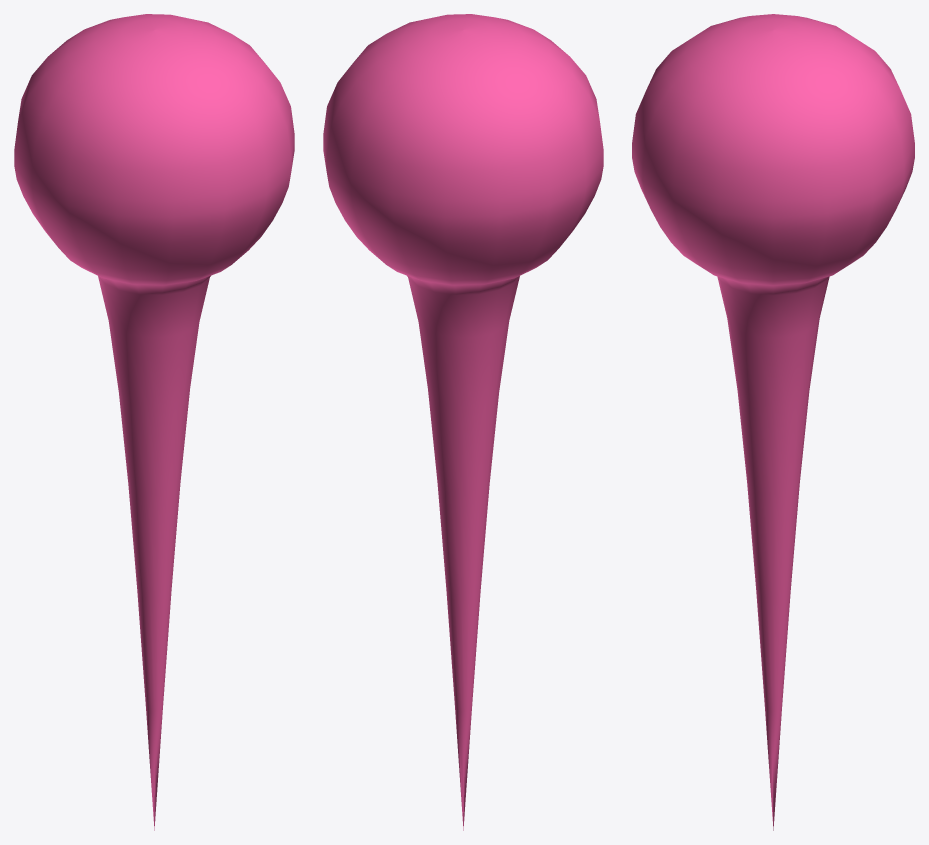
Rendered from thumbtack_magenta.obj.
3 views of the same model, side by side, from view 1: azimuth 30°, elevation 25°; view 2: azimuth 150°, elevation 25°; view 3: azimuth 270°, elevation 25° (orthographic).
Parts seen in each view (by area): view 1: Line004; view 2: Line004; view 3: Line004.
Part boxes in pixels (box(x1,y1,x2,y2)): Line004: box(14, 14, 294, 830); Line004: box(323, 14, 603, 830); Line004: box(632, 14, 914, 830).
Size of the model in its own units: 80 by 250 by 80.
